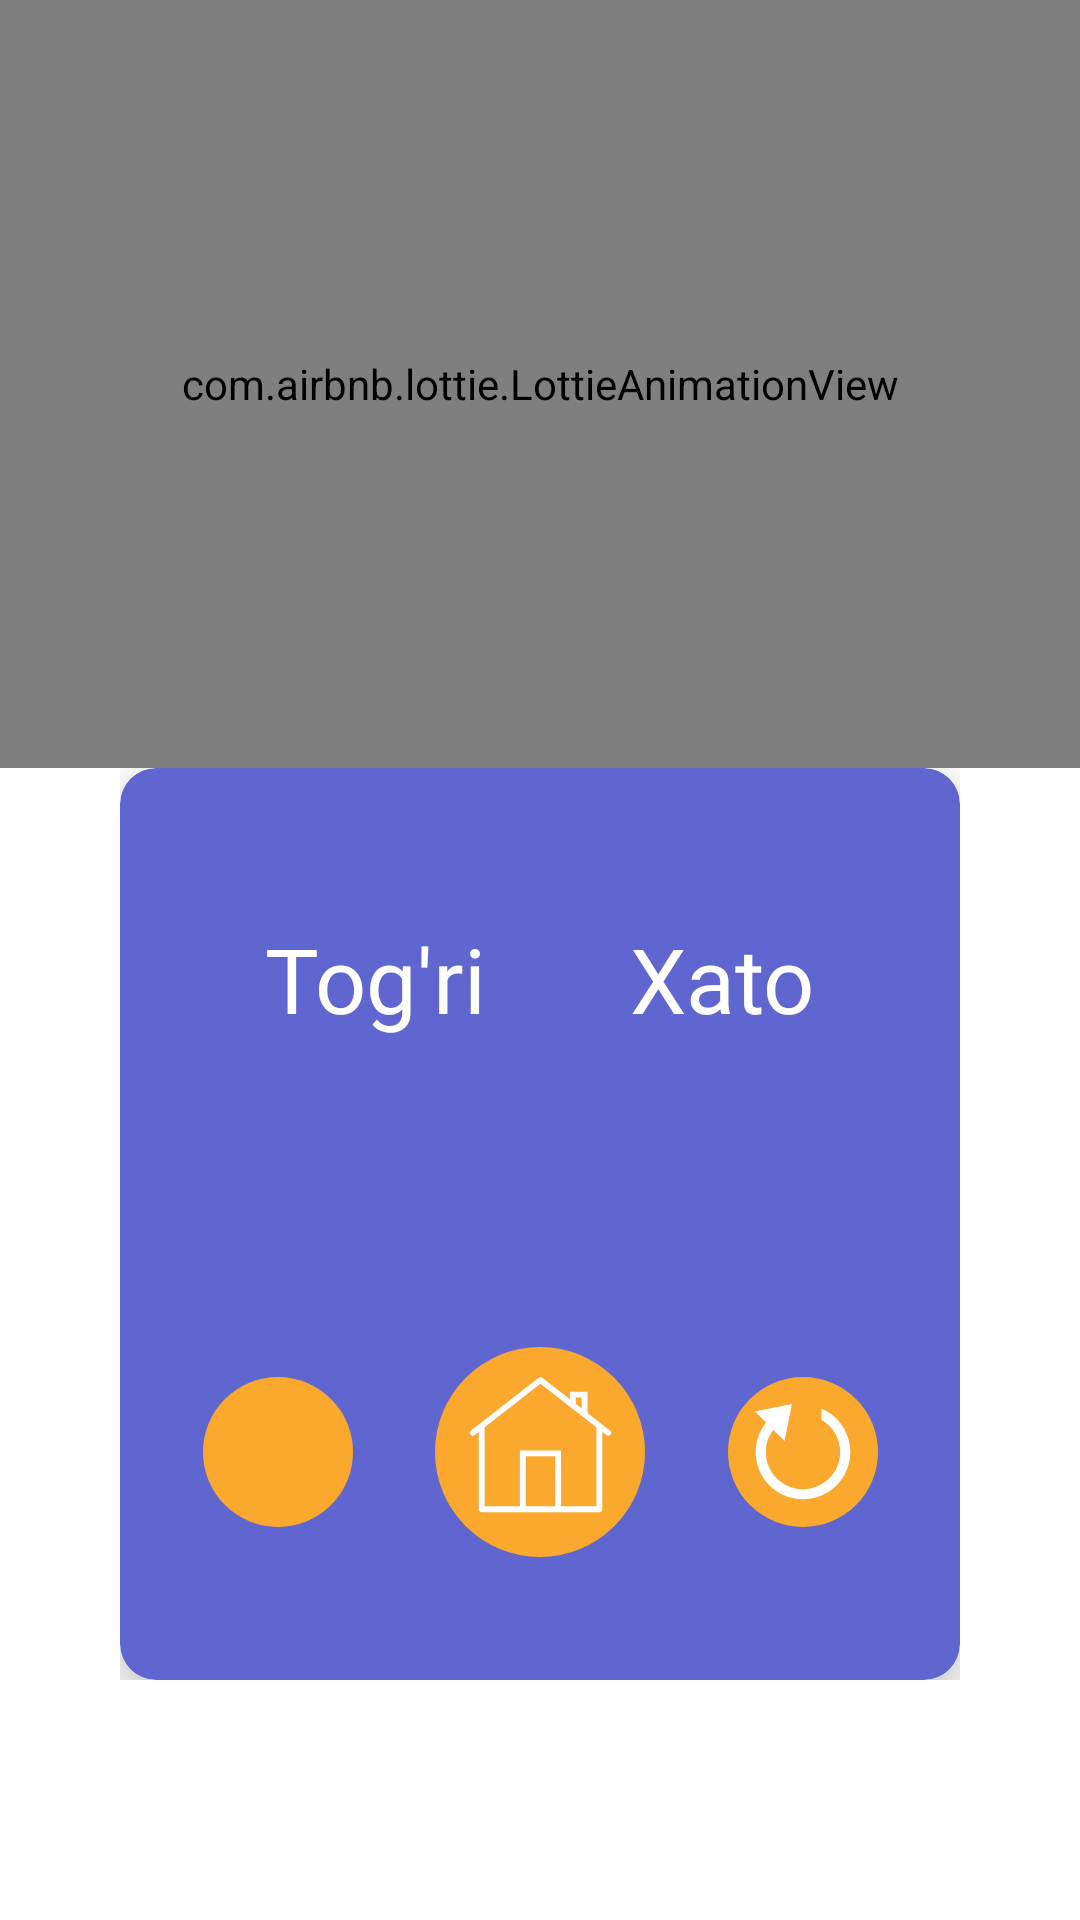

Named icons in this screenshot (1080 x 1920) and their bounding boxes, (x1, y1, x2, y2):
home: (435, 1347, 645, 1557)
restart: (728, 1377, 878, 1527)
